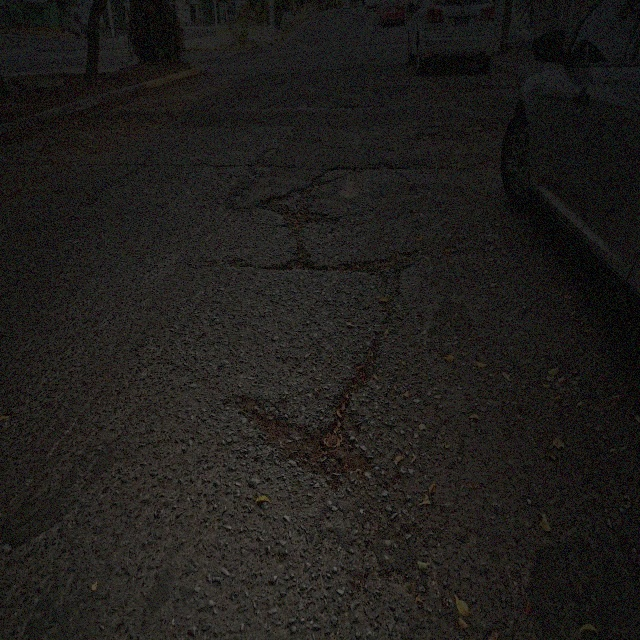pothole: (240, 388, 362, 471), (260, 177, 327, 231), (411, 120, 449, 142)
